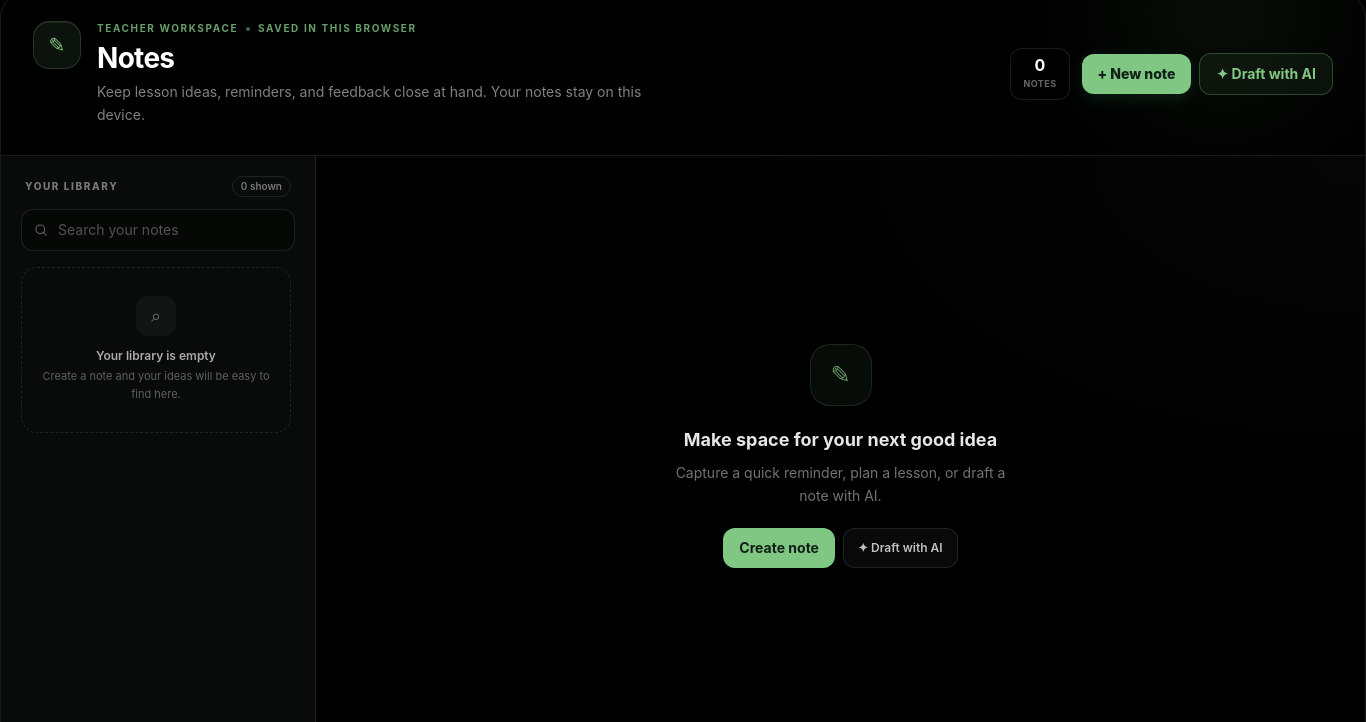
Test case: Notes user workflows › shows AI failures without creating a fallback note
Click the 1st button "✦ Draft with AI" at (1266, 74), box left=1200, top=53, right=1333, bottom=95
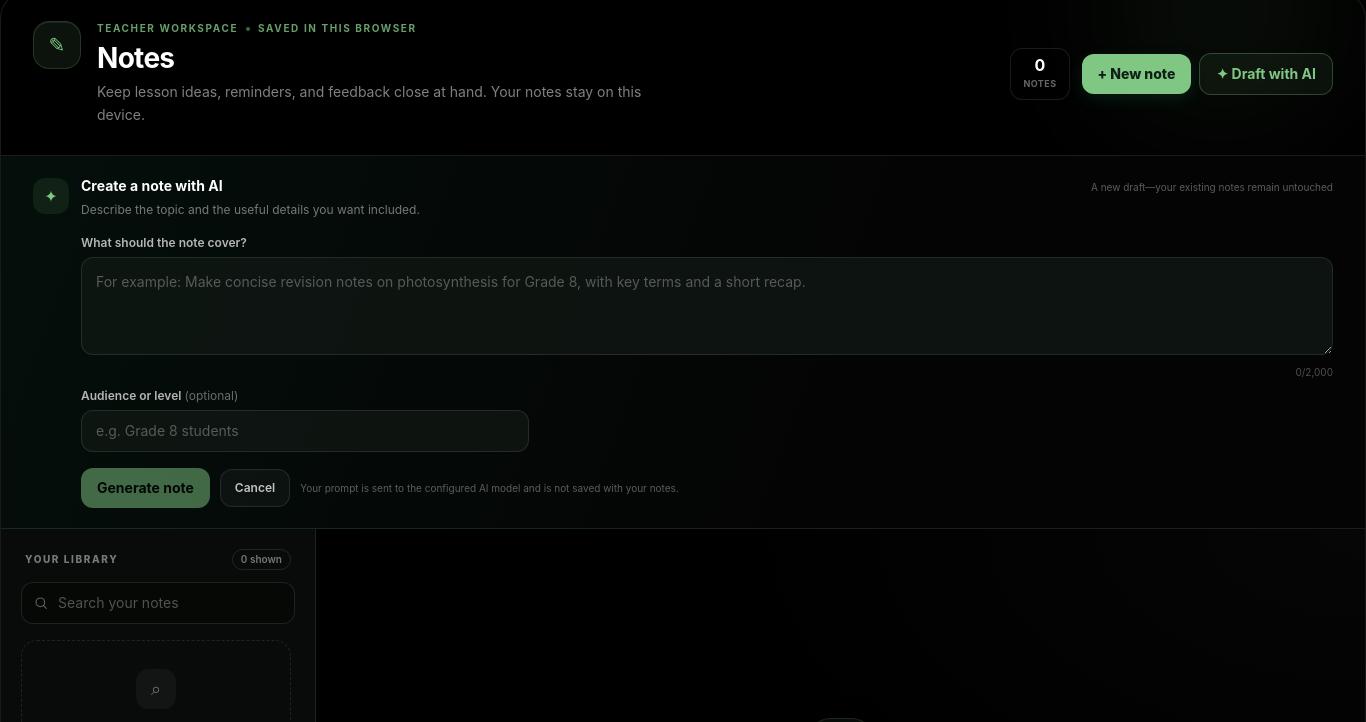
Replace the text in the text box labelled "What should the note cover?" with "Make a note about atoms" at (707, 306), box left=81, top=257, right=1333, bottom=355
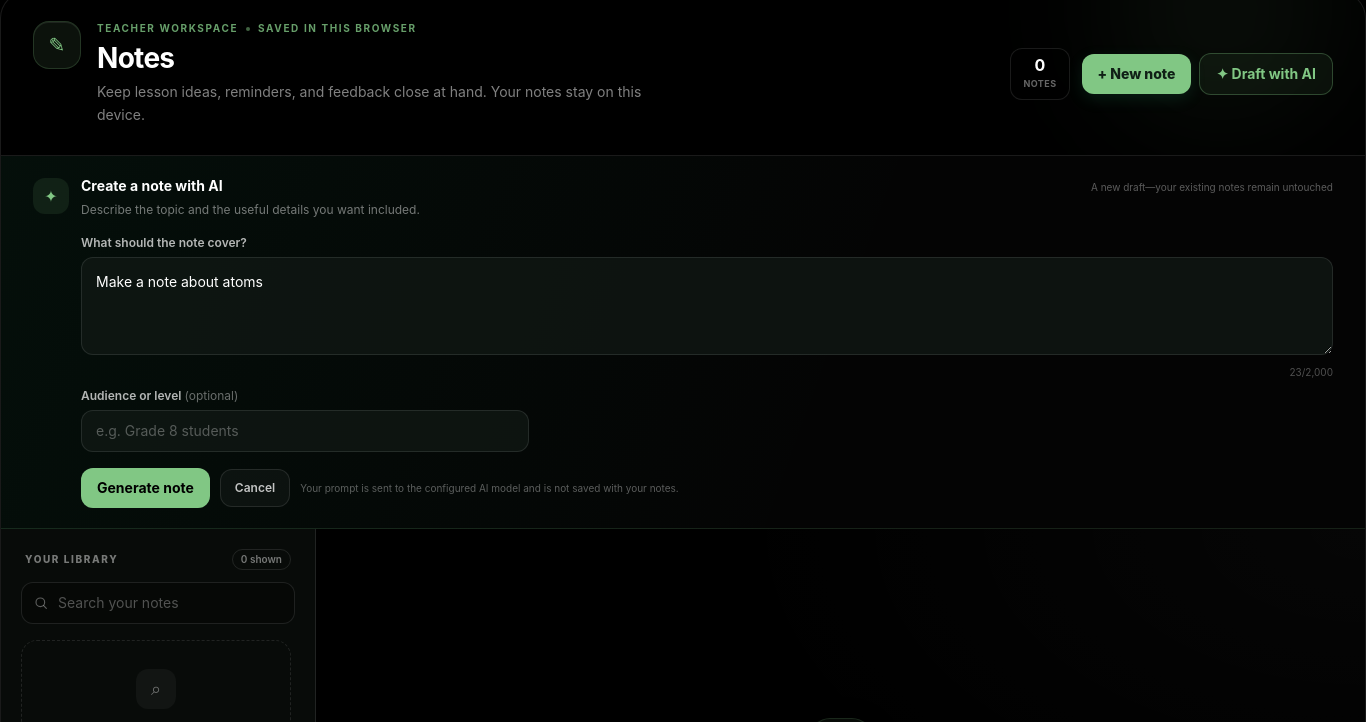
Click the button "Generate note" at (145, 488), box left=81, top=468, right=210, bottom=508
(page scrolled)
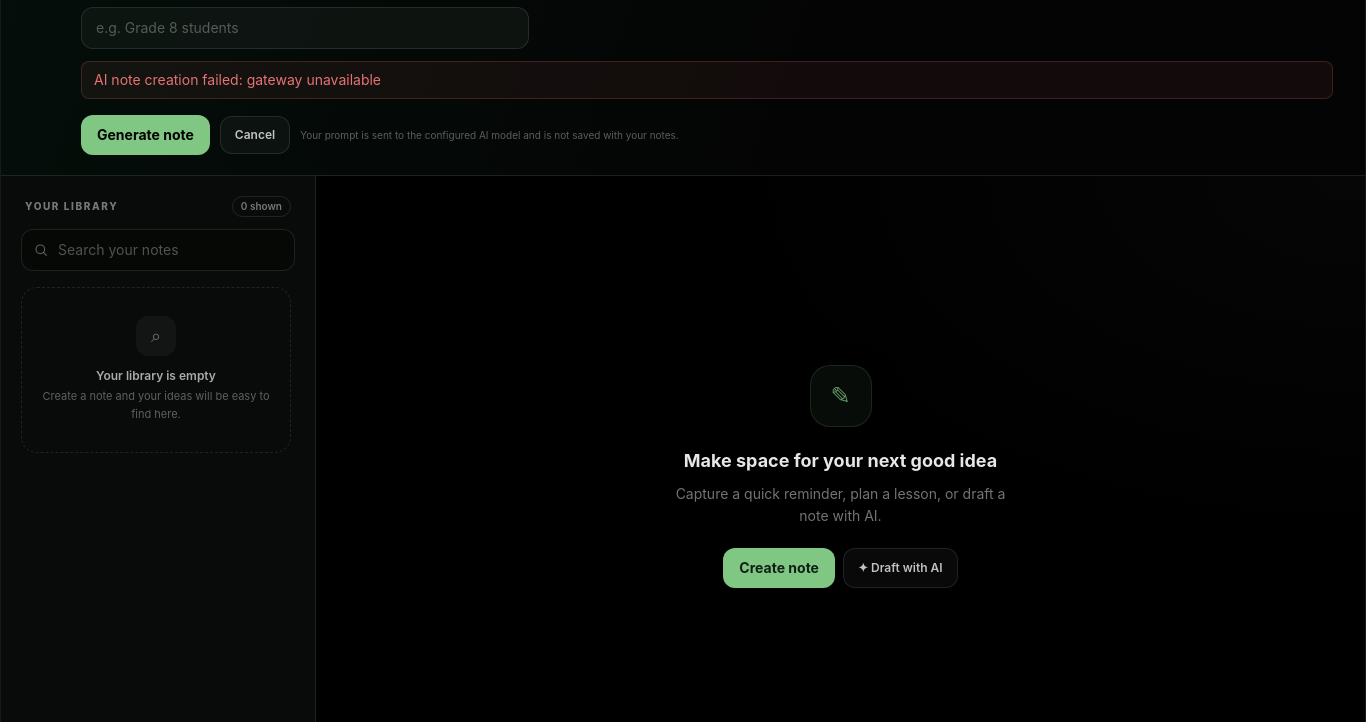
Expected: the text "Your library is empty" is shown, left=96, top=368, right=216, bottom=383
Now the message shows "gateway unavailable", box left=247, top=71, right=381, bottom=88
